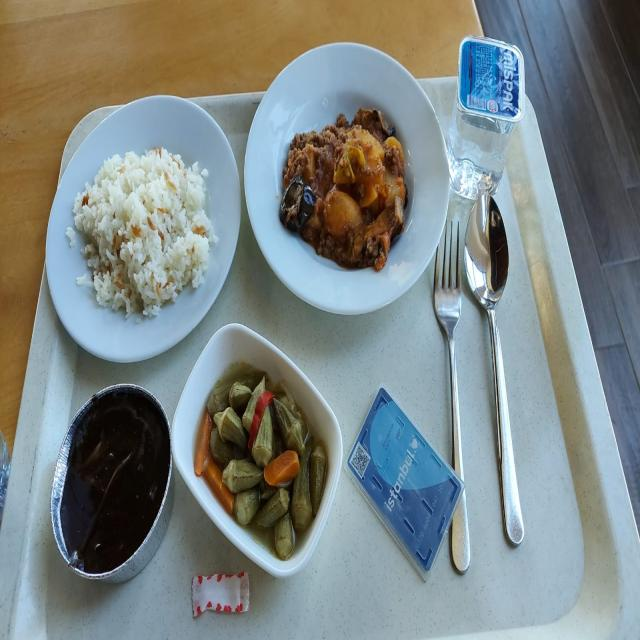ana_yemek: (244, 41, 432, 315), (44, 96, 236, 361)
yan_yemek: (170, 323, 334, 578)
